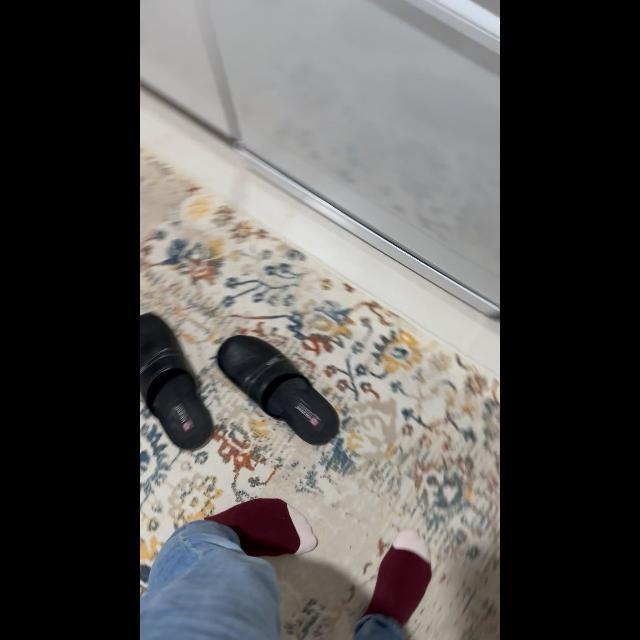slipper: (211, 328, 349, 440), (140, 302, 226, 462)
